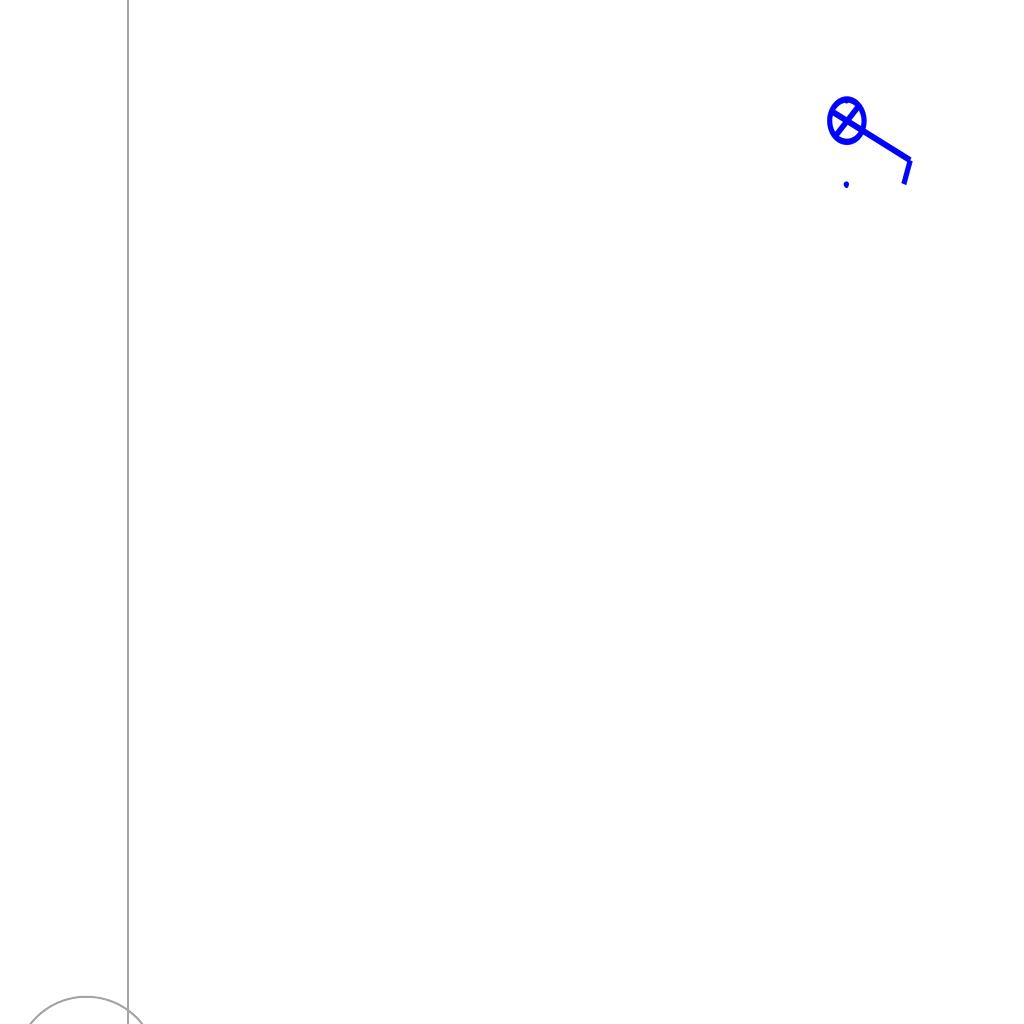Ausschalter_beleuchtet: (825, 82, 921, 194)
